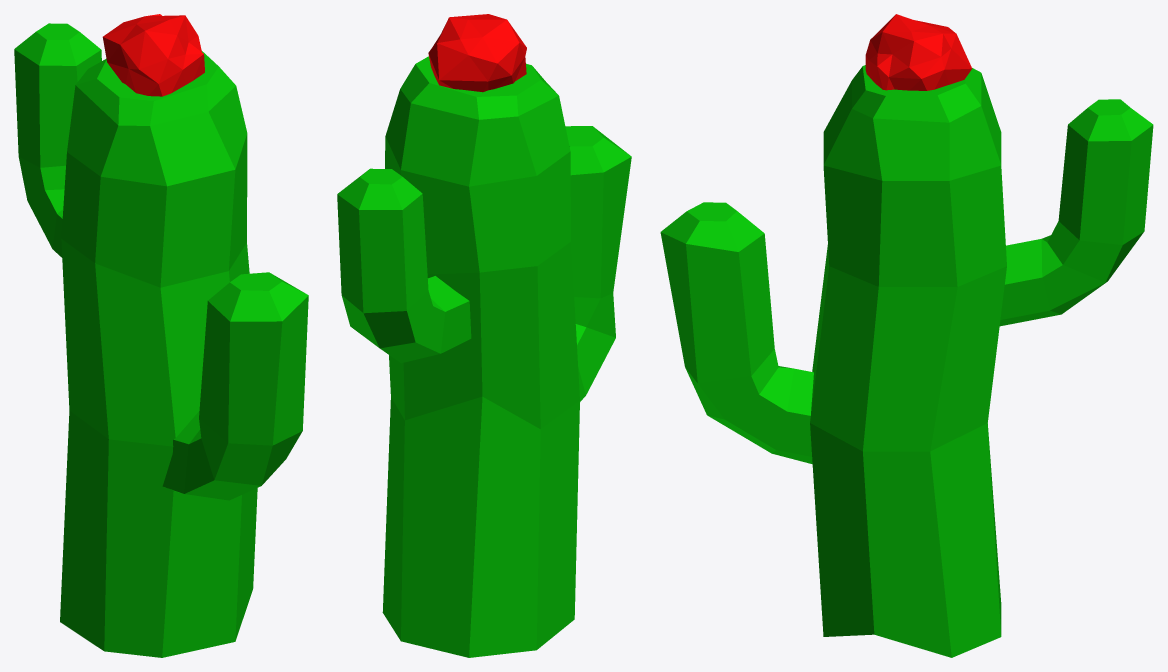
Rendered from cactus.glb.
3 renders of one model, left to right at view 1: azimuth 30°, elevation 25°; view 2: azimuth 150°, elevation 25°; view 3: azimuth 270°, elevation 25°, orthographic.
Visible parts, largest first — view 1: Object_4, Object_5; view 2: Object_4, Object_5; view 3: Object_4, Object_5.
Boxes of the visible parts, box(x1,y1,x2,y2) form: Object_4: box(14, 23, 308, 657); Object_5: box(102, 14, 204, 96); Object_4: box(337, 56, 631, 657); Object_5: box(428, 14, 526, 92); Object_4: box(660, 65, 1153, 657); Object_5: box(865, 14, 972, 90).
Size of the model in its own units: 2.22 by 8.1 by 6.07.
